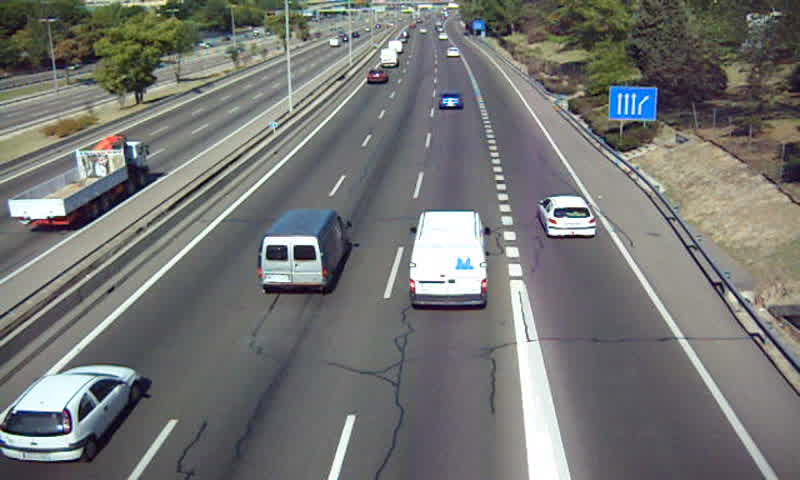car: (1, 364, 142, 463), (537, 193, 597, 239), (437, 92, 465, 110), (366, 68, 388, 84)
van: (409, 211, 490, 308), (259, 209, 350, 293), (380, 48, 398, 67)
